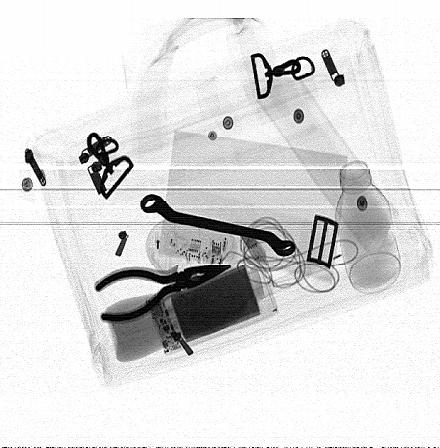Pliers: (94, 264, 232, 322)
Powerbank: (144, 253, 278, 354)
Wrench: (139, 193, 297, 257)
